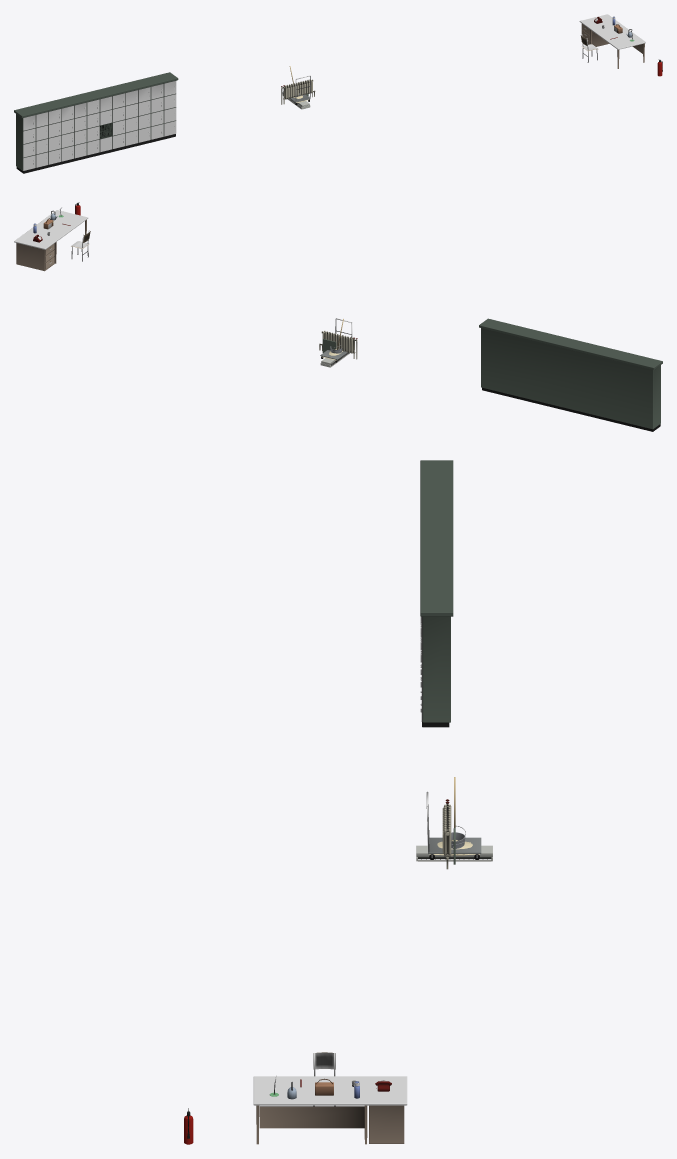
The model's file is interior.glb.
3 views of the same model, one above another, from view 1: azimuth 30°, elevation 25°; view 2: azimuth 150°, elevation 25°; view 3: azimuth 270°, elevation 25° (orthographic). The views are drawn at different scales.
Parts seen in each view (by area): view 1: lockers, booth, radiator_10; view 2: lockers, booth, radiator_10; view 3: booth, lockers.
Boxes of the visible parts, x1=… form: lockers: x1=14, y1=72, x2=178, y2=173; booth: x1=579, y1=14, x2=662, y2=76; radiator_10: x1=283, y1=79, x2=312, y2=104; lockers: x1=479, y1=318, x2=662, y2=431; booth: x1=14, y1=202, x2=90, y2=271; radiator_10: x1=322, y1=331, x2=354, y2=358; booth: x1=184, y1=1052, x2=407, y2=1144; lockers: x1=420, y1=460, x2=453, y2=727.
Size of the model in its own units: 22.77 by 2.27 by 5.23.
